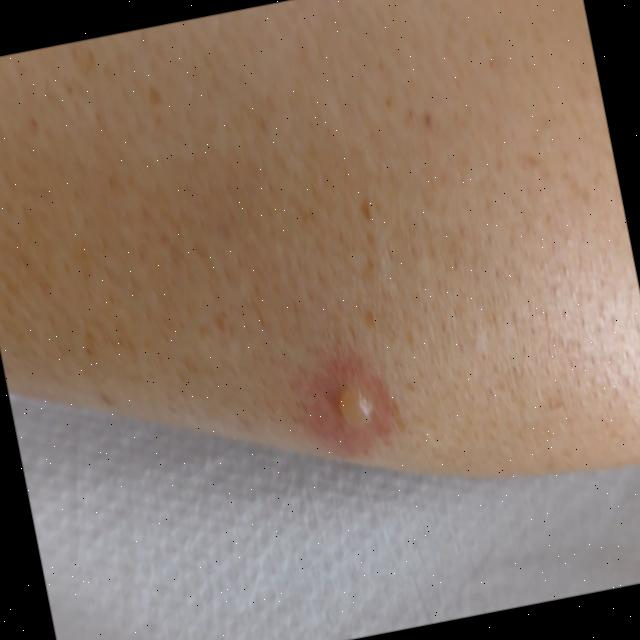kan emici bocekler: (305, 331, 409, 467)
